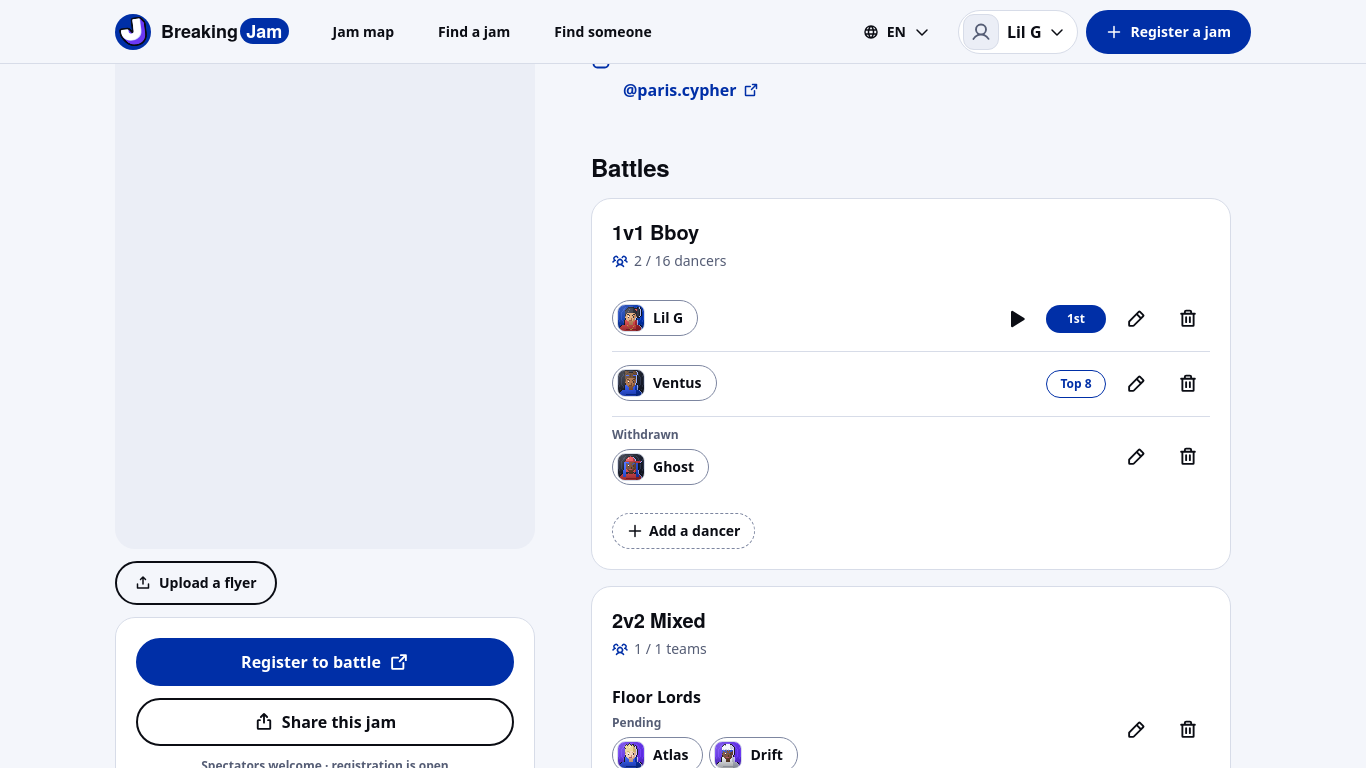
Test: JamPage › lets its organiser delete an entry
(page scrolled)
What coordinates should you click on to do the following:
click the button named "Delete Ventus"
I would click on:
 (1188, 384)
Its box is x1=1166 y1=362 x2=1210 y2=406.
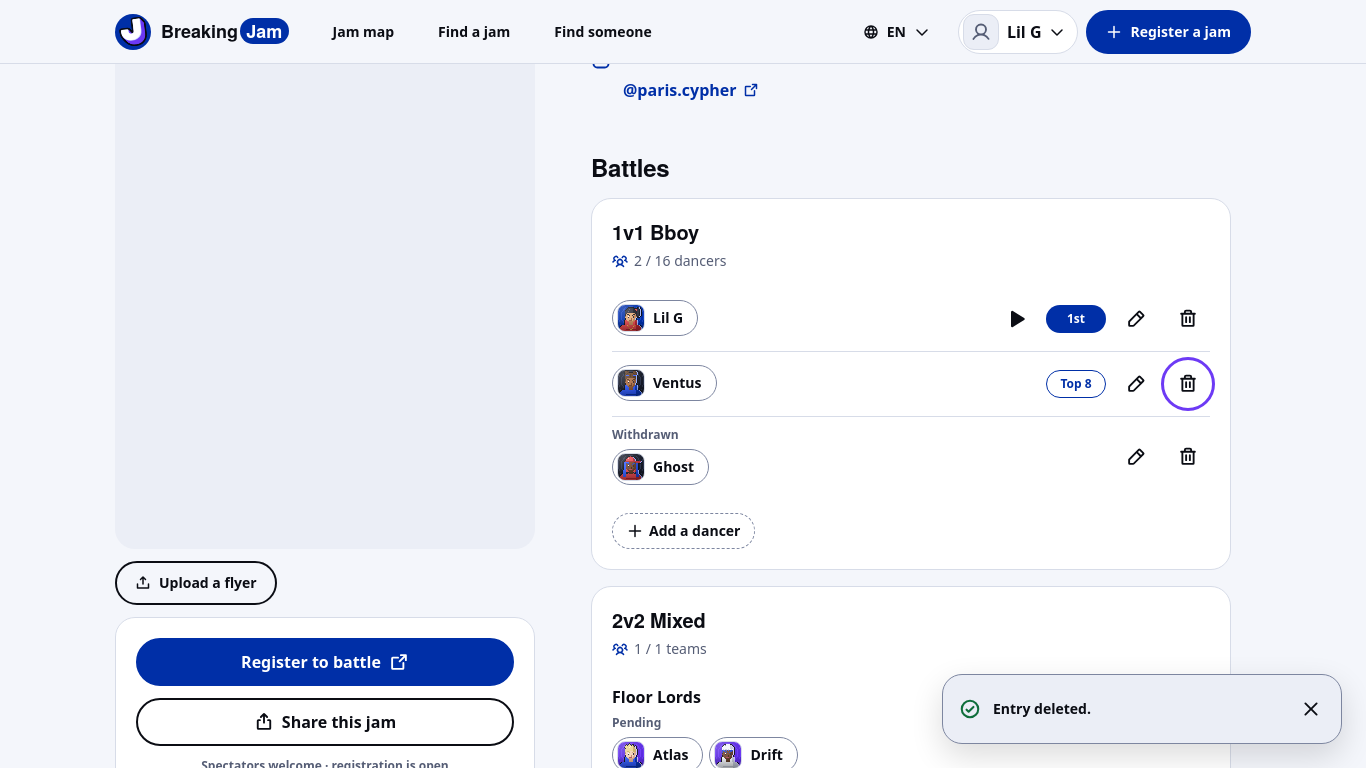
Now the text "Entry deleted." is shown, box x1=993 y1=699 x2=1091 y2=718
